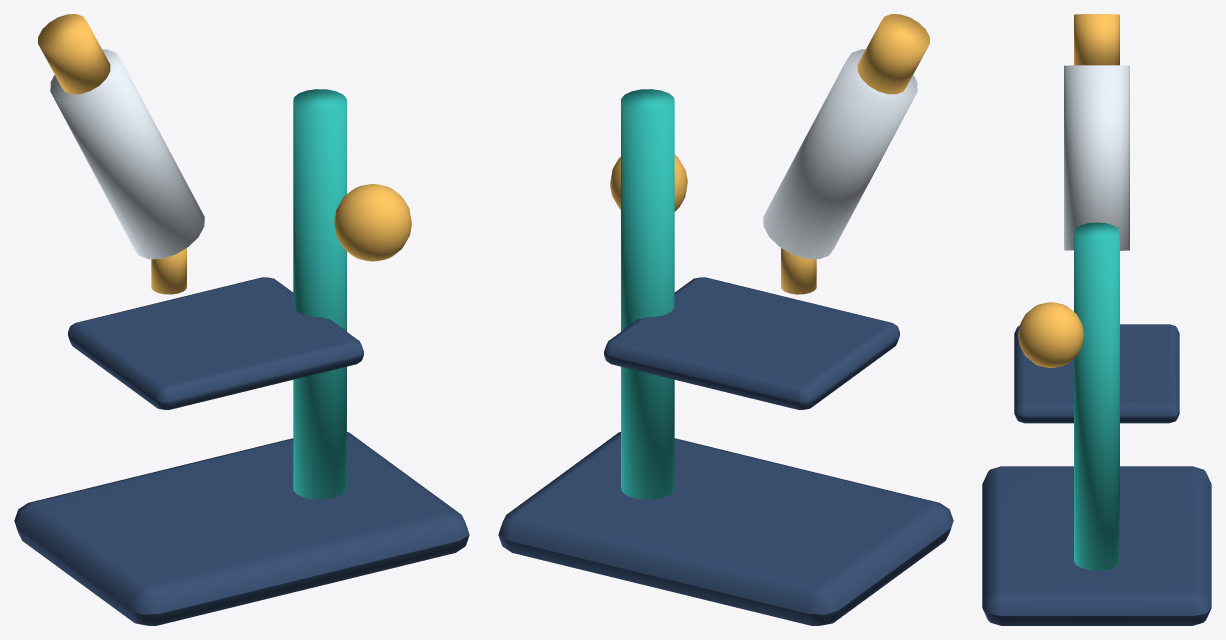
The model's file is microscope-lite.glb.
3 views of the same model, side by side, from view 1: azimuth 30°, elevation 25°; view 2: azimuth 150°, elevation 25°; view 3: azimuth 270°, elevation 25° (orthographic). The views are drawn at different scales.
Parts seen in each view (by area): view 1: Base; view 2: Base; view 3: Base.
Boxes of the visible parts, bbox=[...] form: Base: bbox=[14, 14, 469, 625]; Base: bbox=[498, 14, 953, 625]; Base: bbox=[982, 14, 1211, 625].
Size of the model in its own units: 1.42 by 2.1 by 0.9.
